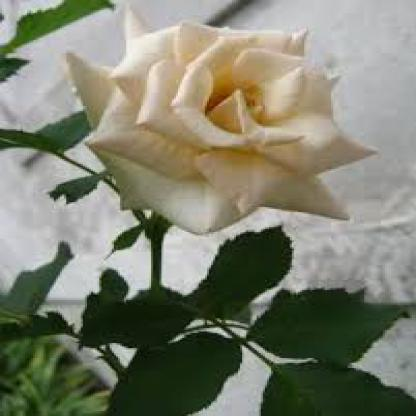Rose-Mawar: (61, 6, 376, 231)
